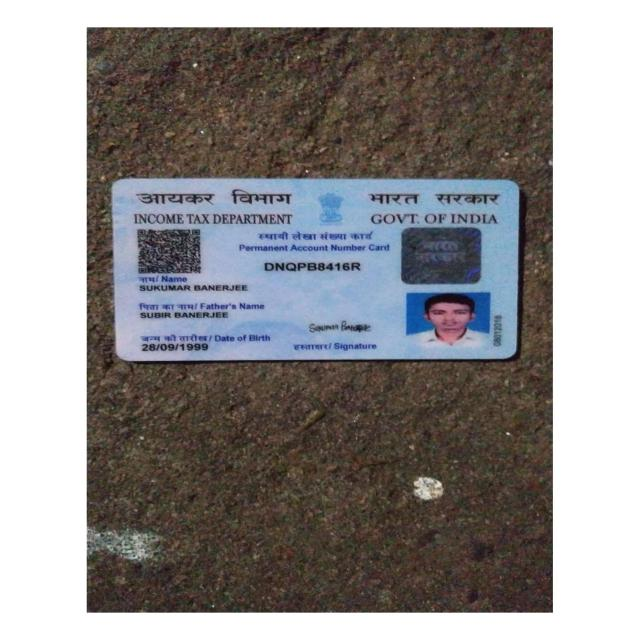pan_card: (116, 175, 520, 359)
